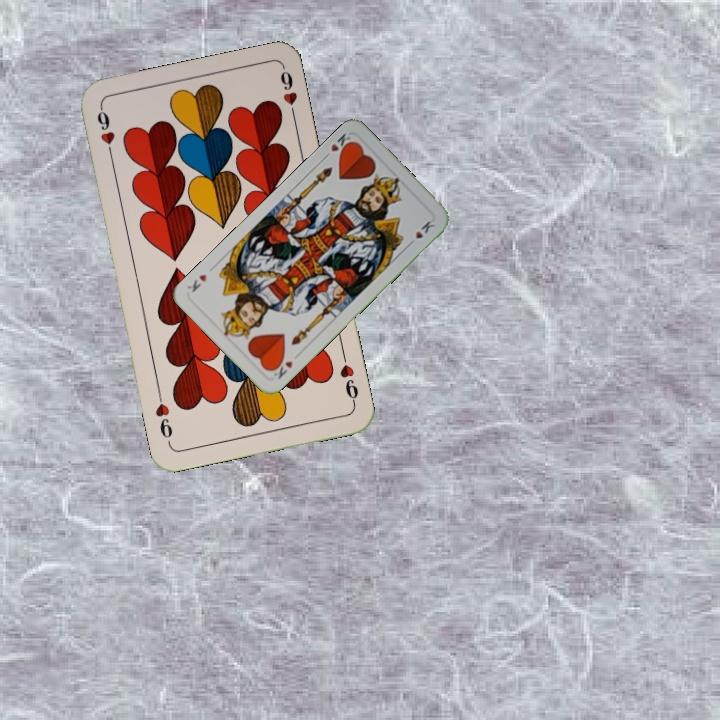H9: (335, 349, 361, 408), (93, 104, 118, 162)
HK: (319, 129, 356, 162), (267, 354, 295, 382)
